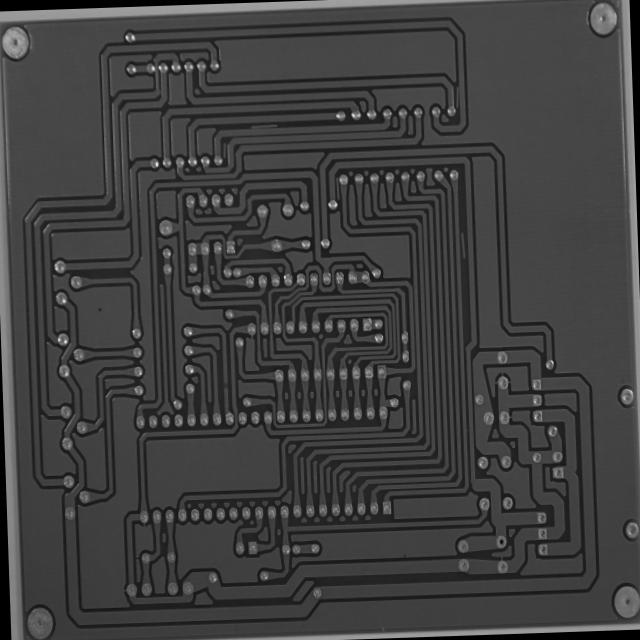spurious_copper: (245, 119, 281, 132), (456, 228, 469, 262), (332, 174, 344, 203), (451, 84, 462, 110), (219, 140, 228, 162)
